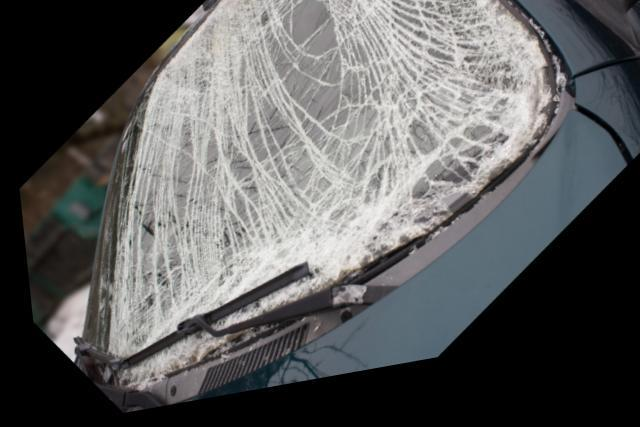glass shatter: (90, 0, 547, 391)
